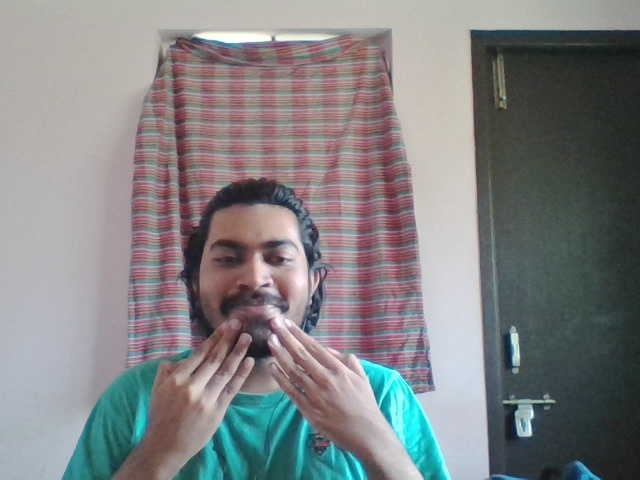ThankYou: (151, 318, 392, 448)
